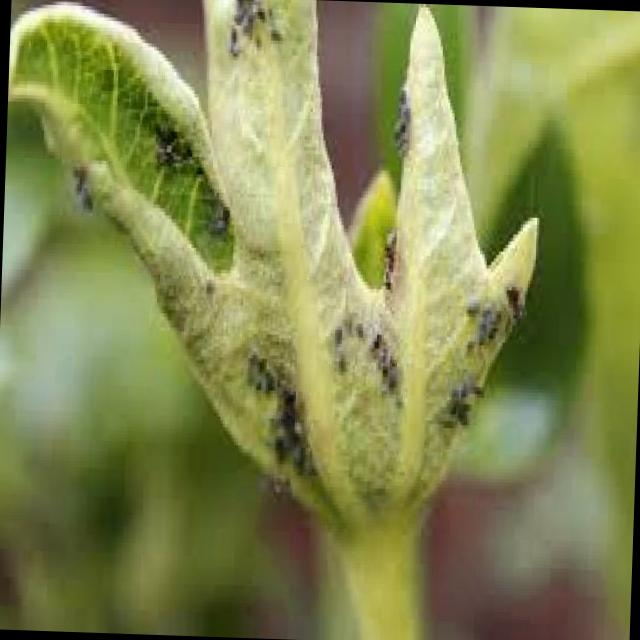aphid: (281, 432, 313, 476), (264, 418, 294, 464), (473, 308, 503, 348), (261, 12, 290, 52), (164, 130, 198, 163), (218, 24, 246, 64), (201, 206, 232, 242), (379, 355, 404, 395), (70, 180, 96, 216), (241, 368, 268, 401), (328, 342, 351, 378), (249, 340, 269, 380), (325, 314, 347, 350), (458, 288, 481, 320), (450, 400, 472, 432), (386, 114, 410, 143), (456, 364, 474, 400), (393, 96, 412, 130), (389, 76, 411, 104), (232, 7, 252, 33), (255, 8, 268, 24)
